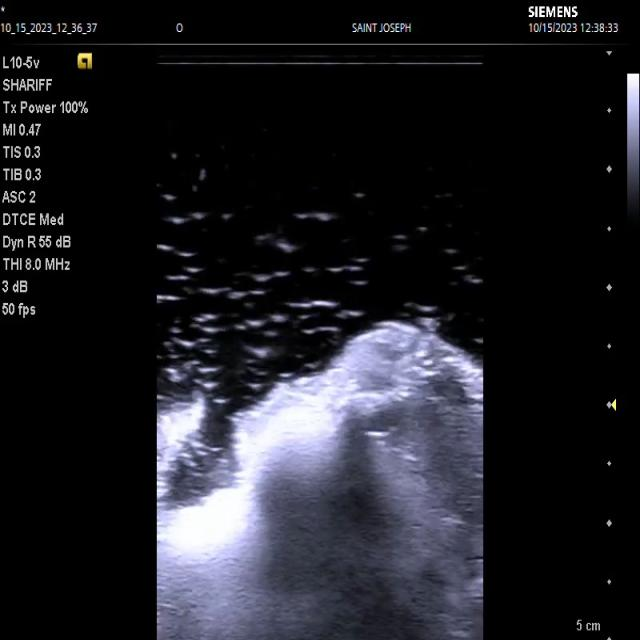tissue: (158, 321, 482, 640)
